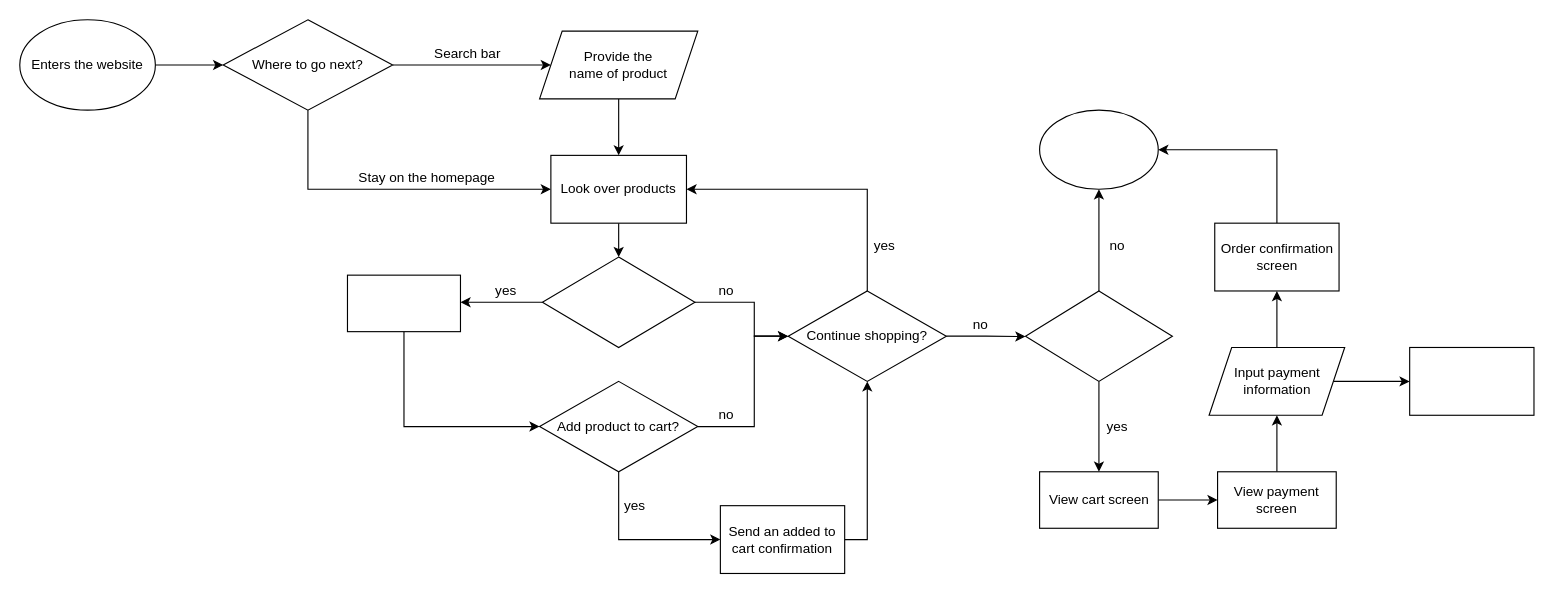
This 1554x593 diagram has some shape labels left out. Each missing label, with the box of its shape:
Checkout?: (1024, 290, 1172, 381)
Leaves the website: (1038, 109, 1158, 189)
Open product's webpage: (346, 274, 460, 332)
Order confirmation email sent: (1409, 346, 1534, 415)
View a specific product?: (541, 256, 695, 347)
